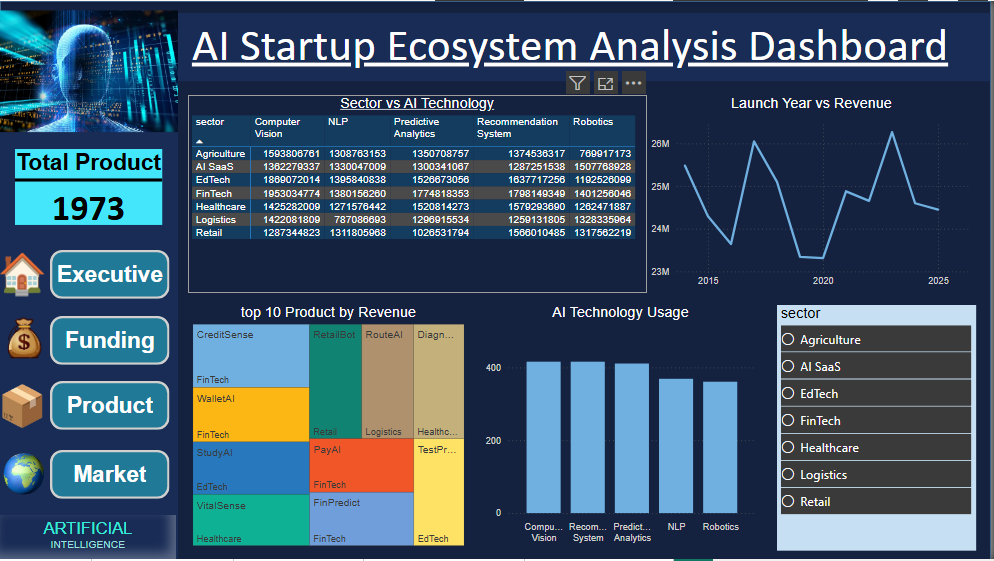

This screenshot's page, from the dashboard's own definition file:
{"tool":"powerbi","page":{"name":"Product & Technology","canvas":[1280,720],"ordinal":3},"visuals":[{"type":"shape","box":[1.8,0,1278.8,720.9],"z":0},{"type":"actionButton","box":[65.7,321.4,154.3,62.9],"z":0,"group":"g6"},{"type":"actionButton","box":[65.7,491.4,154.3,62.9],"z":0,"group":"g3"},{"type":"group","id":"g1","title":"Group 4","box":[5.7,571.4,214.3,77.1],"z":0,"group":"g5"},{"type":"actionButton","box":[65.7,578.5,154.3,62.9],"z":0,"group":"g1"},{"type":"textbox","box":[194.6,16.1,1083.9,87.5],"z":1000},{"type":"image","box":[0,321.4,60,62.9],"z":1000,"group":"g6"},{"type":"image","box":[0,485.7,60,74.3],"z":1000,"group":"g3"},{"type":"image","box":[5.7,571.4,54.3,77.1],"z":1000,"group":"g1"},{"type":"shape","box":[0,15.5,231,705.2],"z":2000},{"type":"image","box":[0,5.2,231,170.7],"z":3000},{"type":"card","title":"Total Product","fields":{"Values":["measure.Total Product"]},"box":[20.6,191,189.7,98.1],"z":4000},{"type":"columnChart","title":"AI Technology Usage","fields":{"Category":["Products_Projects.ai_technology"],"Y":["measure.Total Product"]},"box":[621.6,391.2,360,316.8],"z":5000},{"type":"treemap","title":"top 10 Product by Revenue","fields":{"Group":["Products_Projects.product_name"],"Values":["measure.Total Product Revenue"],"Details":["AI_Startups.sector"]},"box":[244.8,391.2,360,316.8],"z":6000},{"type":"pivotTable","title":"Sector vs AI Technology","fields":{"Values":["measure.Total Product Revenue"],"Rows":["AI_Startups.sector"],"Columns":["Products_Projects.ai_technology"]},"box":[244.3,121.4,591.4,255.7],"z":7000},{"type":"lineChart","title":"Launch Year vs Revenue","fields":{"Y":["measure.Avg Revenue by Launch Year"],"Category":["Products_Projects.launch_year"]},"box":[835.7,121.4,424.3,255.7],"z":8000},{"type":"listSlicer","fields":{"Values":["AI_Startups.sector"]},"box":[1003.3,391.7,256.7,316.7],"z":9000},{"type":"group","id":"g2","title":"Group 6","box":[0,321.4,220,327.1],"z":10000},{"type":"textbox","box":[1,663.3,226.7,56.7],"z":11000},{"type":"group","id":"g3","title":"Group 1","box":[0,485.7,220,74.3],"z":13000,"group":"g2"},{"type":"group","id":"g4","title":"Group 2","box":[0,390,220,90],"z":14000,"group":"g2"},{"type":"actionButton","box":[65.7,407.1,154.3,62.9],"z":14004,"group":"g4"},{"type":"image","box":[0,390,65.7,90],"z":14010,"group":"g4"},{"type":"group","id":"g5","title":"Group 3","box":[5.7,571.4,214.3,77.1],"z":15000,"group":"g2"},{"type":"group","id":"g6","title":"Group 5","box":[0,321.4,220,62.9],"z":16002,"group":"g2"}]}

Visuals, with their boxes in screenshot pixels (x1, y1, x2, y2), scaled from the page's 1280x720 canvas onto the 994x561 screenshot:
shape: box(1, 0, 993, 560)
actionButton: box(51, 250, 171, 299)
actionButton: box(51, 383, 171, 432)
"Group 4" group: box(4, 445, 171, 505)
actionButton: box(51, 451, 171, 500)
textbox: box(151, 13, 993, 81)
image: box(0, 250, 47, 299)
image: box(0, 378, 47, 436)
image: box(4, 445, 47, 505)
shape: box(0, 12, 179, 560)
image: box(0, 4, 179, 137)
"Total Product" card: box(16, 149, 163, 225)
"AI Technology Usage" columnChart: box(483, 305, 762, 552)
"top 10 Product by Revenue" treemap: box(190, 305, 470, 552)
"Sector vs AI Technology" pivotTable: box(190, 95, 649, 294)
"Launch Year vs Revenue" lineChart: box(649, 95, 978, 294)
listSlicer - AI_Startups.sector: box(779, 305, 978, 552)
"Group 6" group: box(0, 250, 171, 505)
textbox: box(1, 517, 177, 560)
"Group 1" group: box(0, 378, 171, 436)
"Group 2" group: box(0, 304, 171, 374)
actionButton: box(51, 317, 171, 366)
image: box(0, 304, 51, 374)
"Group 3" group: box(4, 445, 171, 505)
"Group 5" group: box(0, 250, 171, 299)
